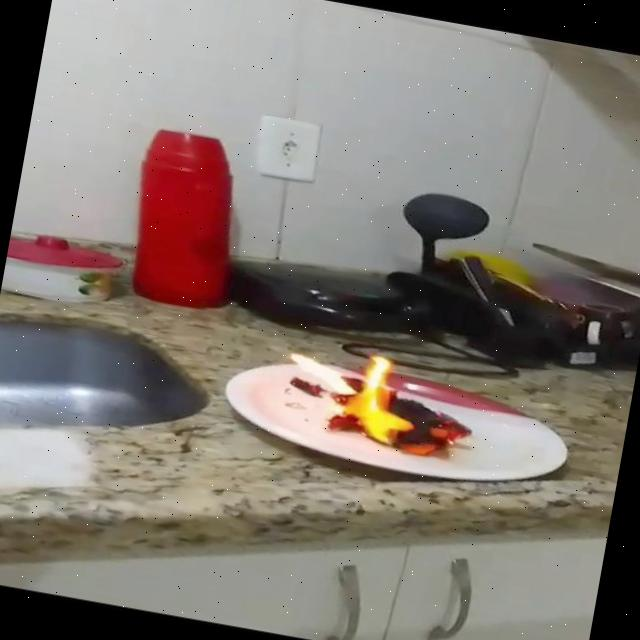fire: (320, 341, 486, 467)
